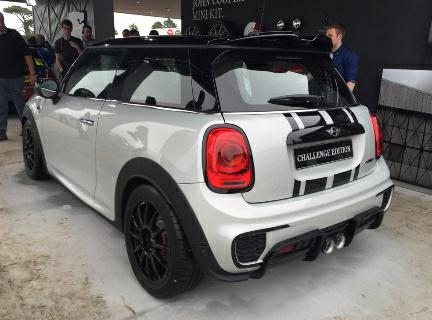MINI-JCW: (13, 39, 397, 286)
